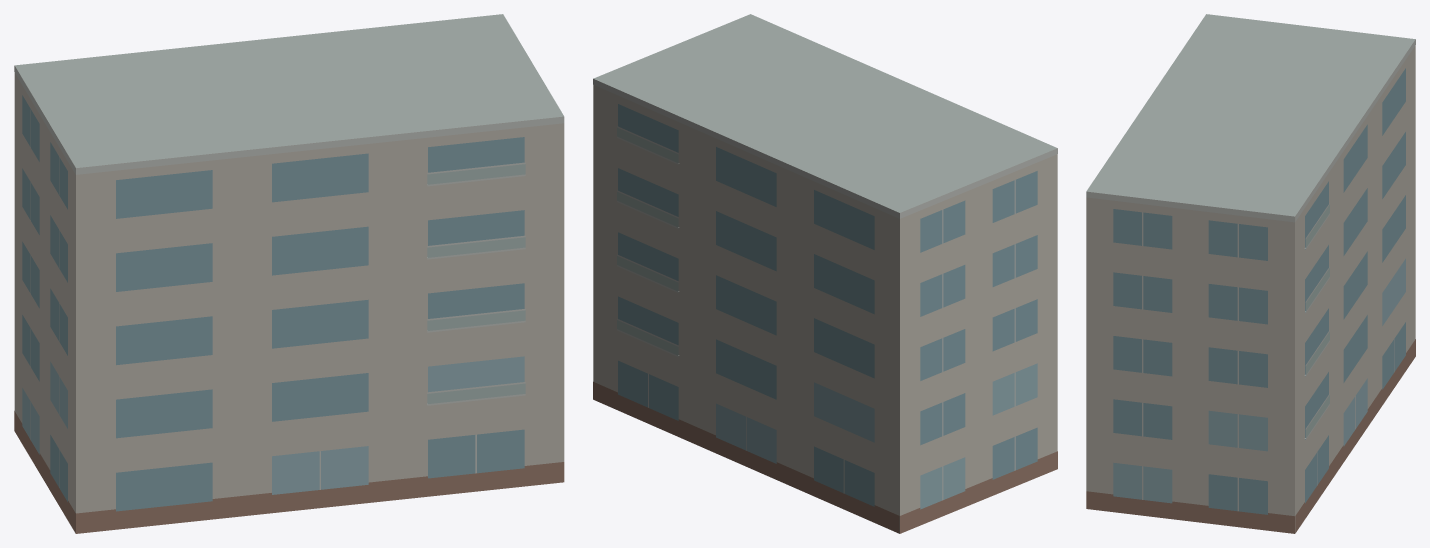
Rendered from survey-upis-32872854.glb.
3 renders of one model, left to right at view 1: azimuth 30°, elevation 25°; view 2: azimuth 150°, elevation 25°; view 3: azimuth 270°, elevation 25°, orthographic. The views are drawn at different scales.
Visible parts, largest first — view 1: survey-upis-32872854.tmp; view 2: survey-upis-32872854.tmp; view 3: survey-upis-32872854.tmp.
Boxes of the visible parts, left/top/right/bottom form: survey-upis-32872854.tmp: left=14, top=14, right=564, bottom=533; survey-upis-32872854.tmp: left=593, top=14, right=1057, bottom=533; survey-upis-32872854.tmp: left=1086, top=14, right=1415, bottom=533.
Size of the model in its own units: 18.22 by 13.3 by 12.53.
